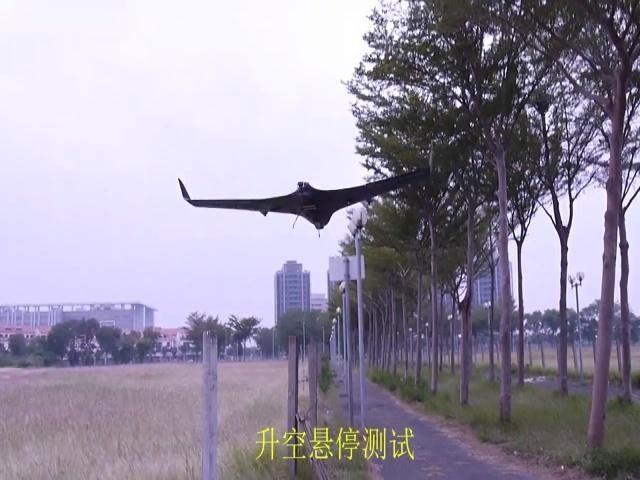Airplane: (178, 140, 433, 238)
